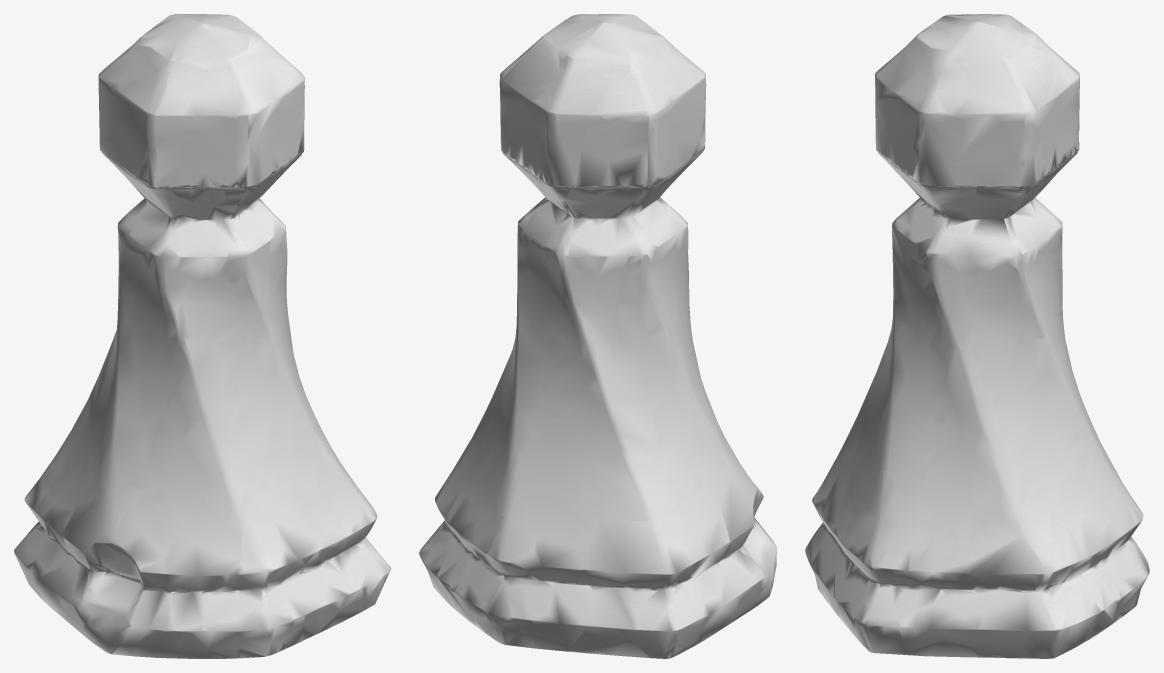
Rendered from pawn-white.glb.
3 views of the same model, side by side, from view 1: azimuth 30°, elevation 25°; view 2: azimuth 150°, elevation 25°; view 3: azimuth 270°, elevation 25° (orthographic).
Bounding box in the file's own units: 0.5018 × 0.95 × 0.5175.
Materials: 1 (1 with a texture image).
